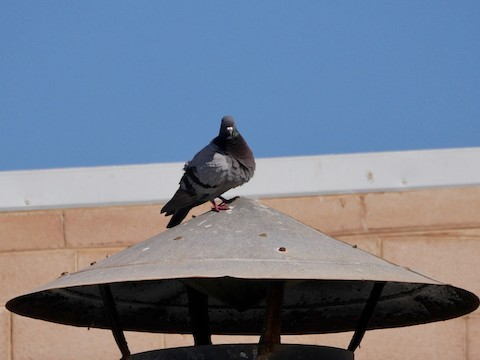pigeon: (159, 112, 257, 230)
